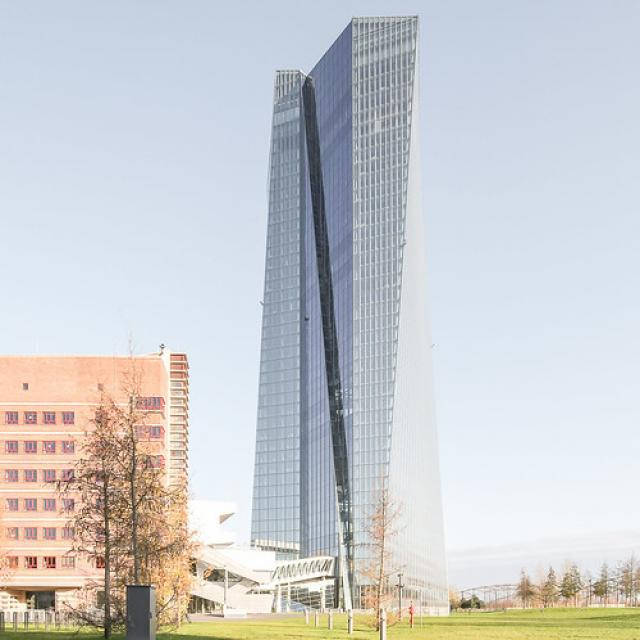Normal_building: (246, 8, 456, 629)
